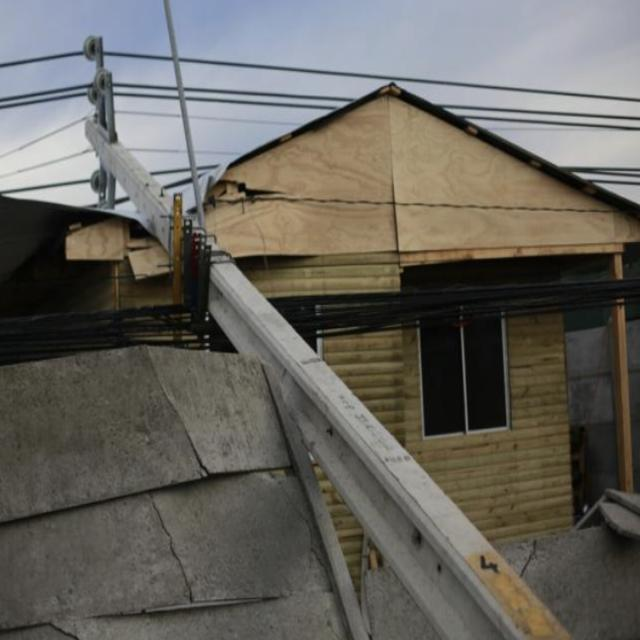Inclined Pole: (81, 32, 580, 640)
